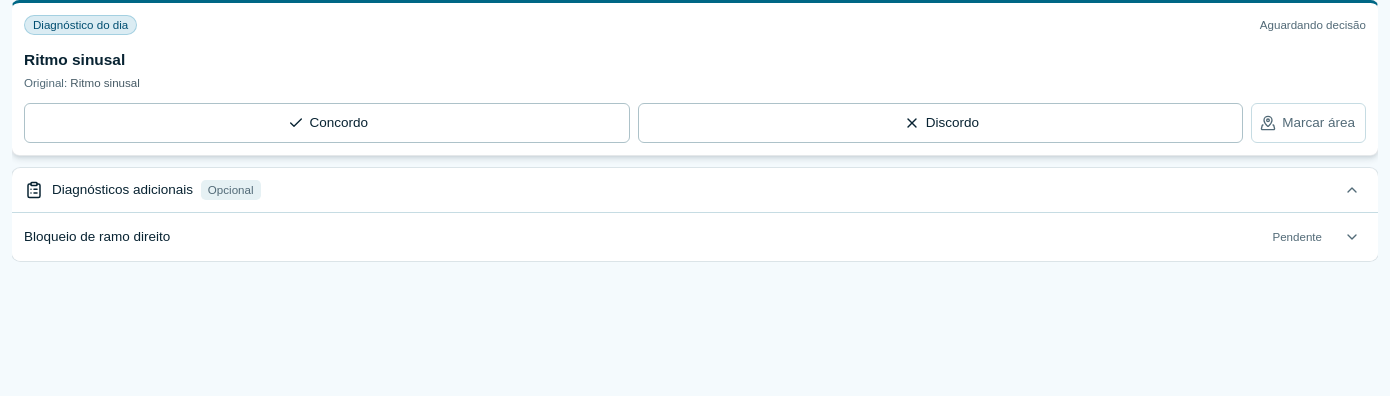
DiagnosisPanel › exibe concordâncias em diagnósticos opcionais e na revalidação geral
The width and height of the screenshot is (1390, 396).
Check: the text "IA concordou" is not shown
Click the button "Bloqueio de ramo direito Pendente" at (97, 236), box left=12, top=213, right=1378, bottom=261
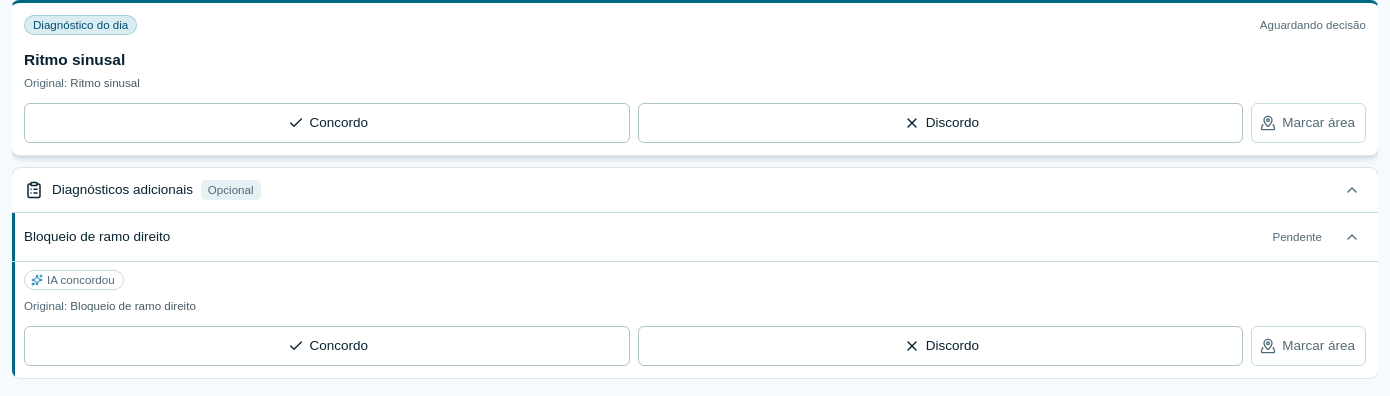
Check: the text "IA concordou" is shown, box left=24, top=270, right=124, bottom=290
